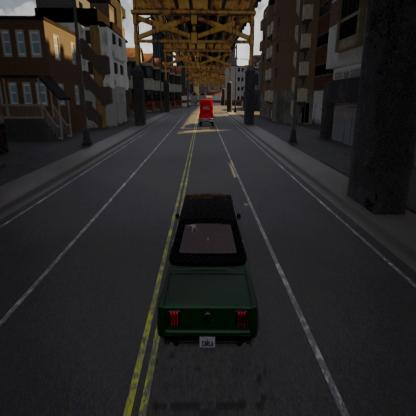Cars: (149, 188, 268, 358), (195, 97, 218, 129)
